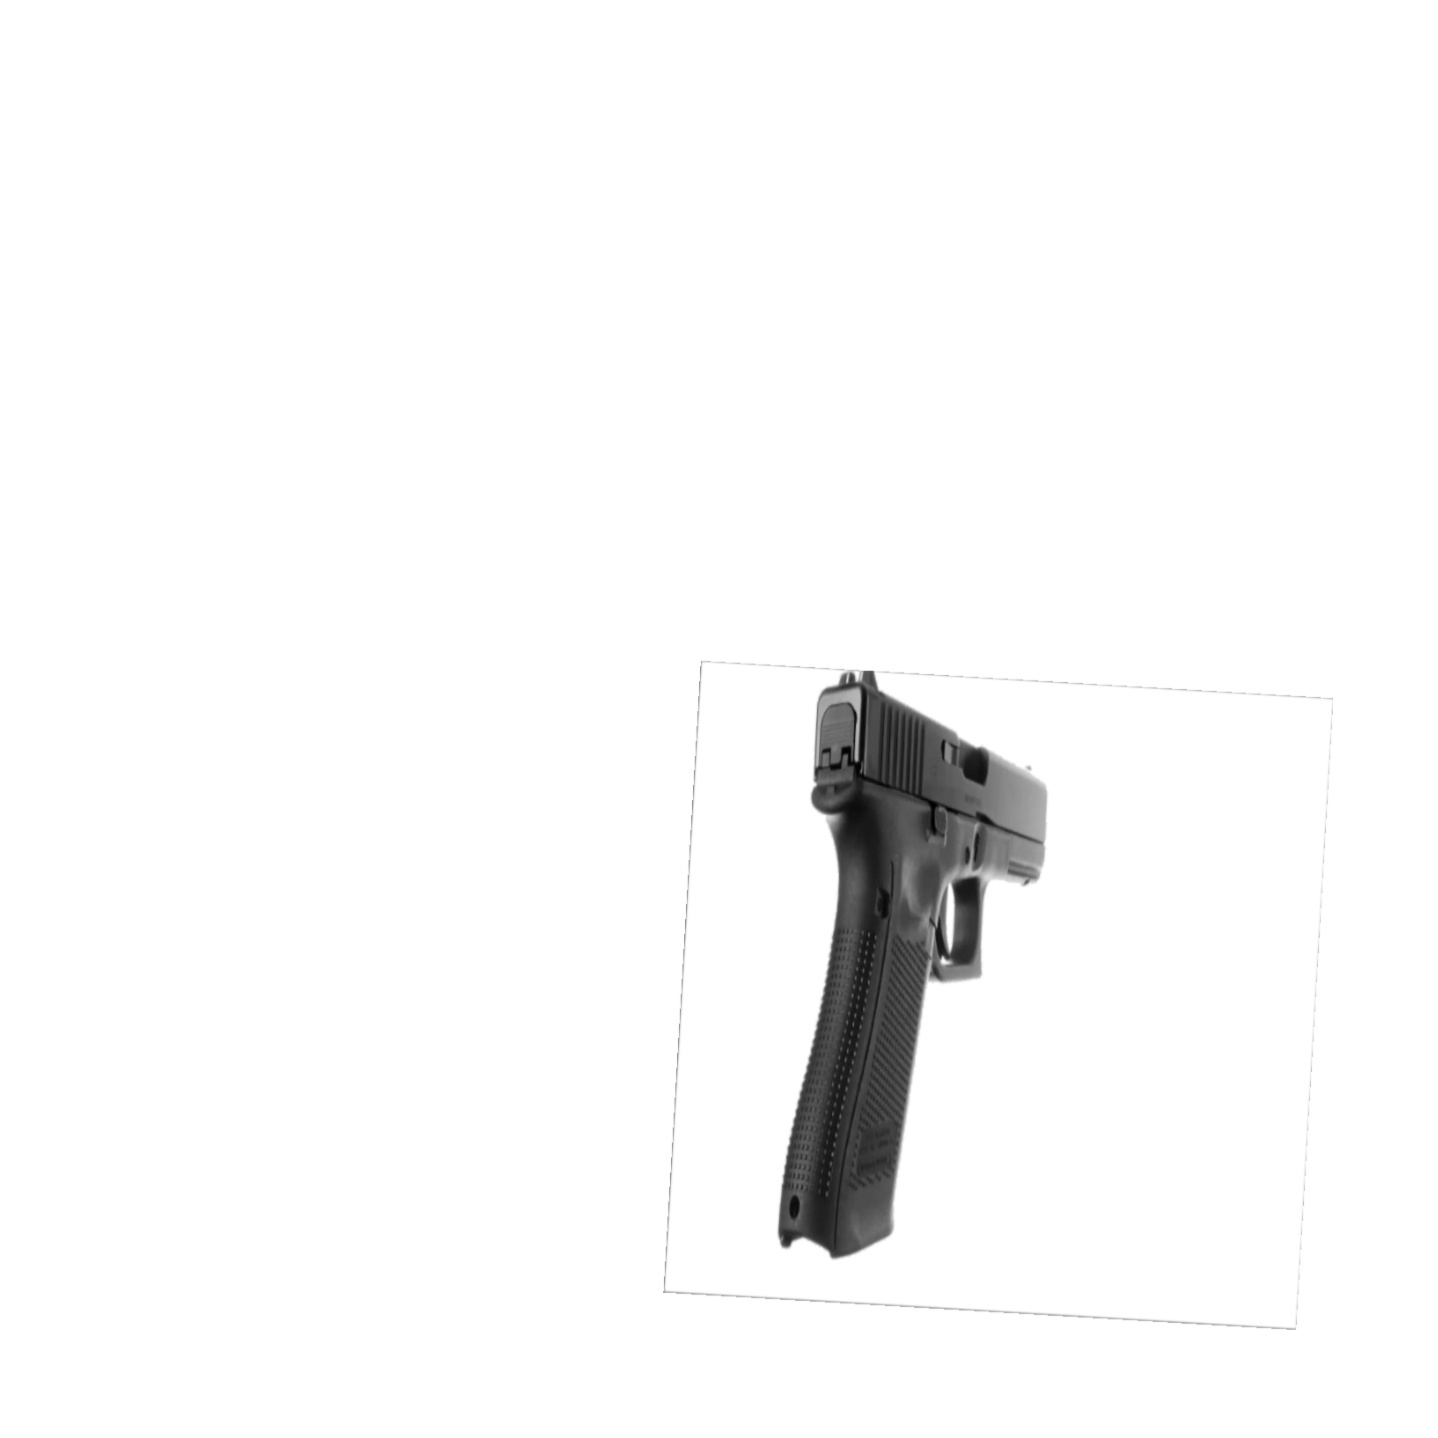gun: (776, 669, 1051, 1262)
